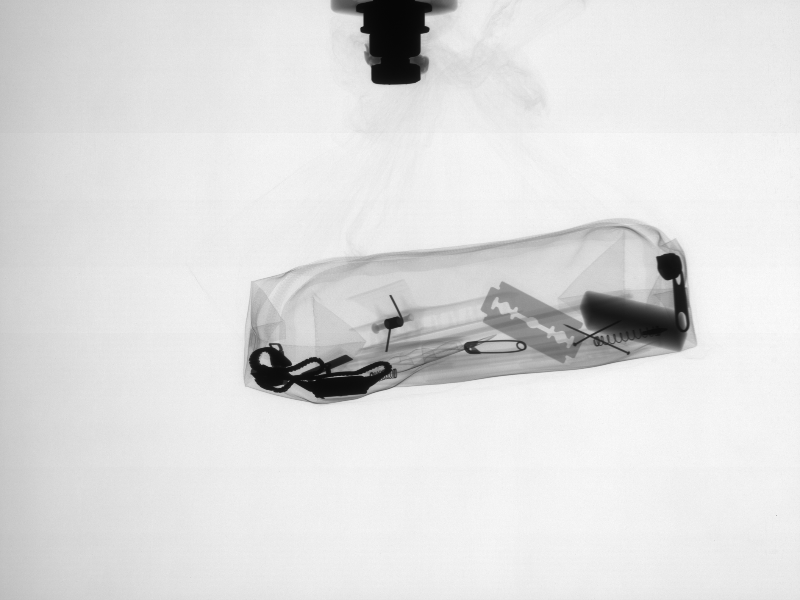bobby pin: (460, 340, 531, 355)
needle: (566, 316, 629, 357)
rasor blade: (485, 281, 581, 361)
rope: (255, 337, 400, 394)
string: (593, 331, 656, 345)
